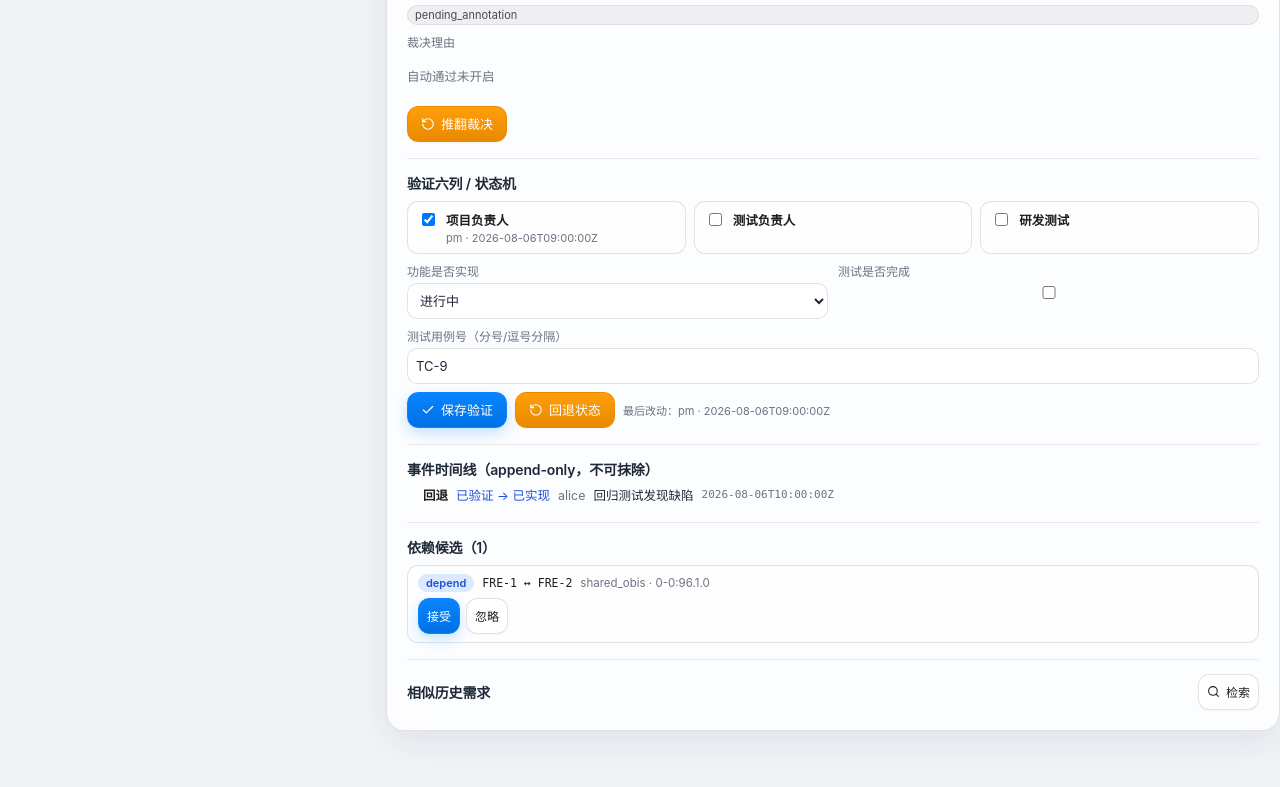
Test: FunctionalReview (WS-F) › saves verification via POST with the CAS evidence_fingerprint and refreshes on 409 (Cap2)
This screenshot has width=1280, height=787.
(page scrolled)
Click the button with test id "save-verification": [457, 410] box [407,392,507,428]
(page scrolled)
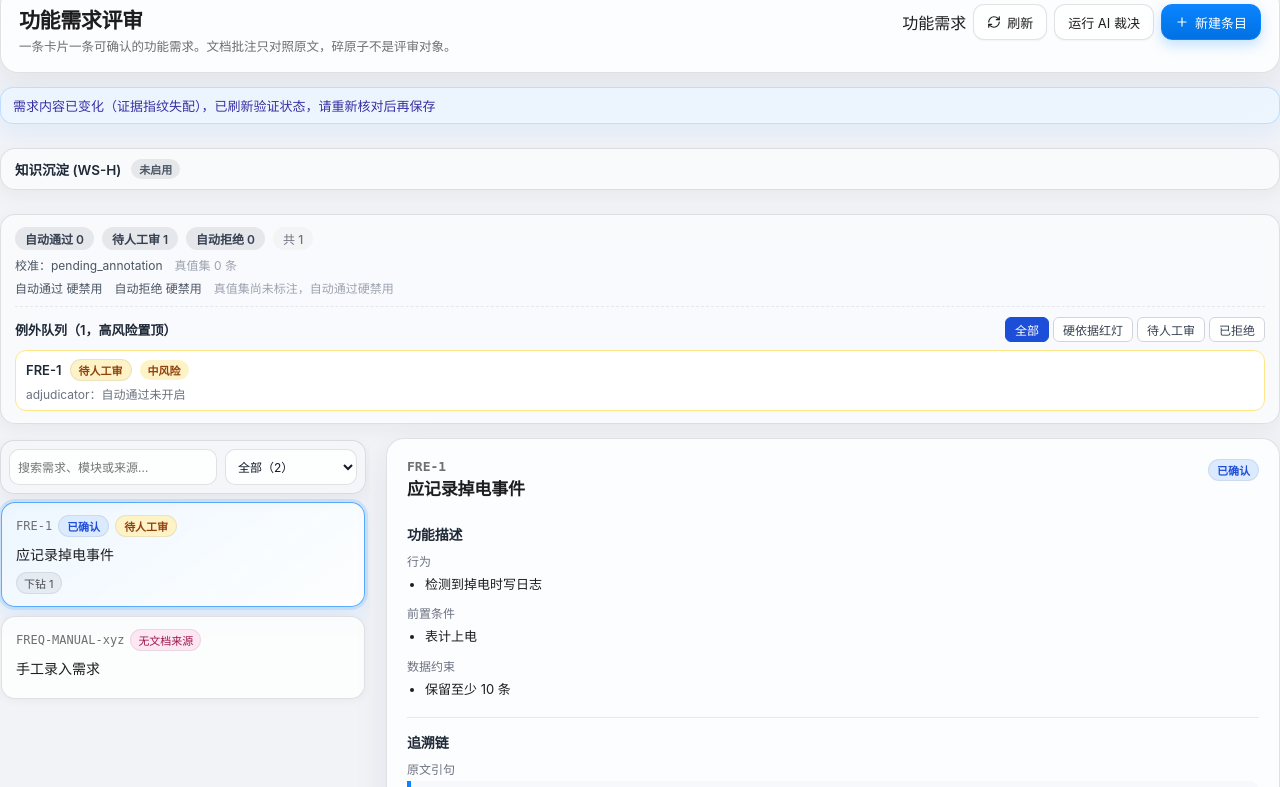
Result: the text with test id "fr-message" shows "证据指纹失配" at [13,98,436,114]
